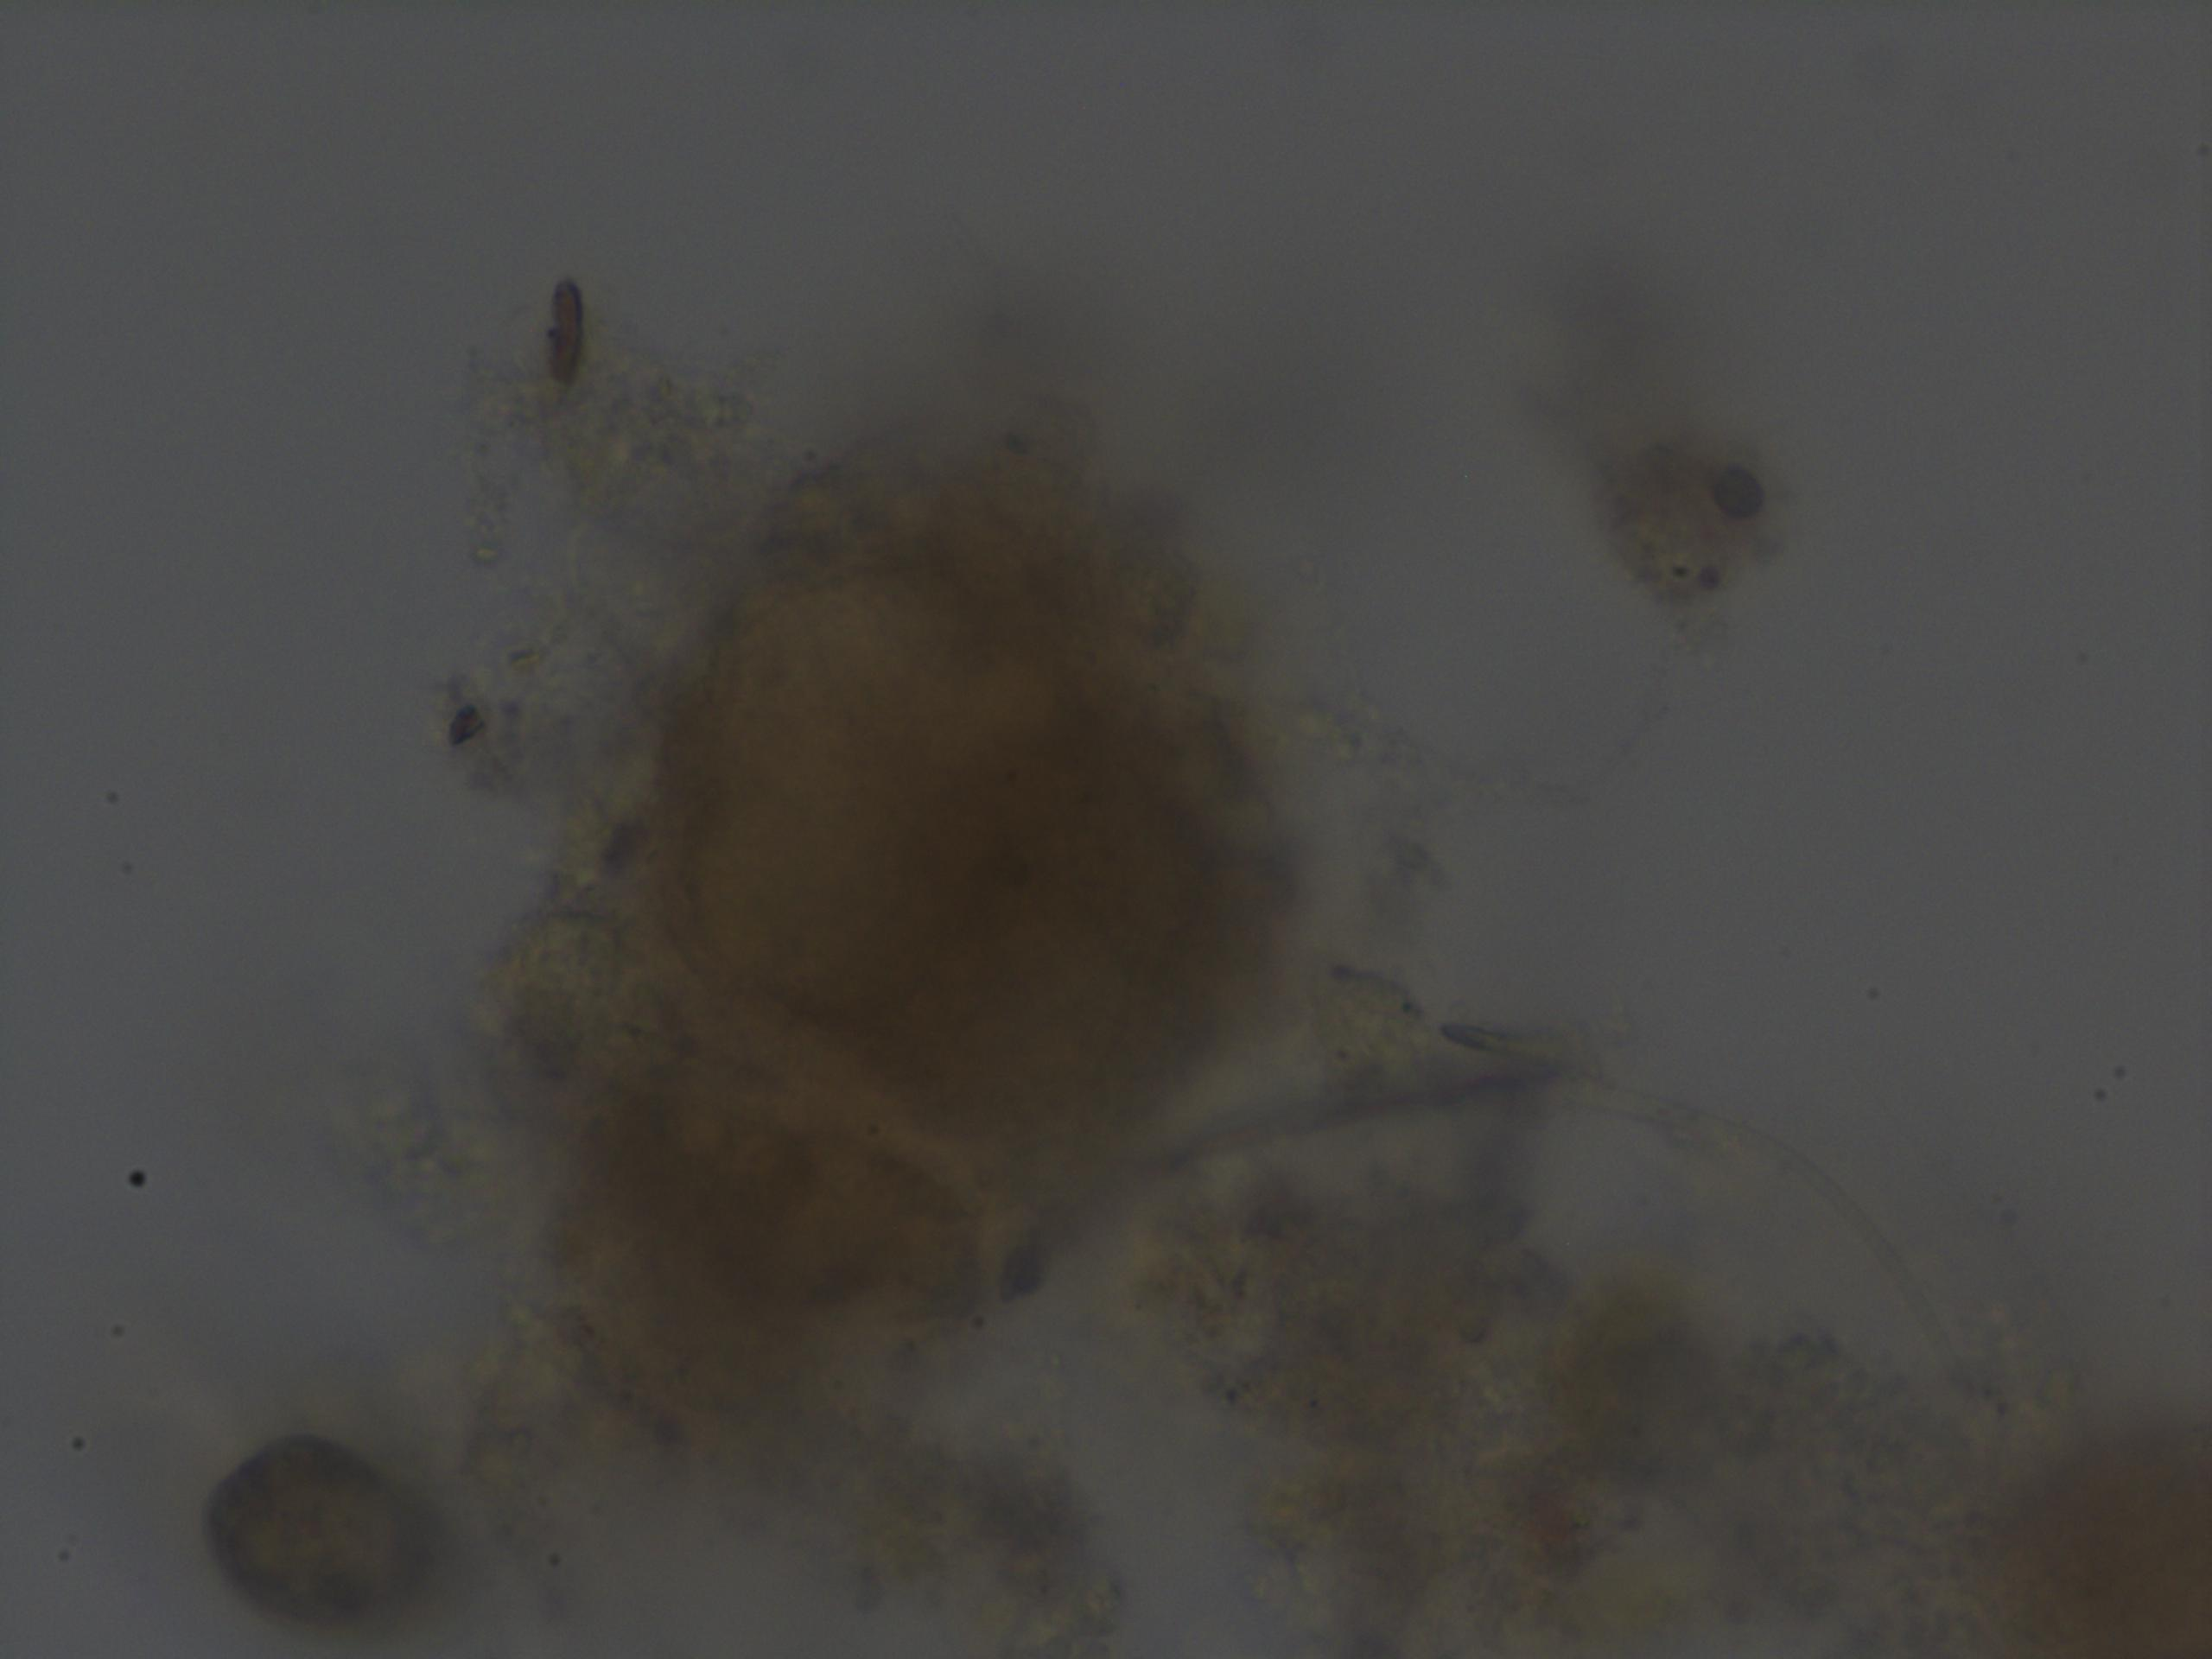filament: (1137, 979, 2017, 1363)
